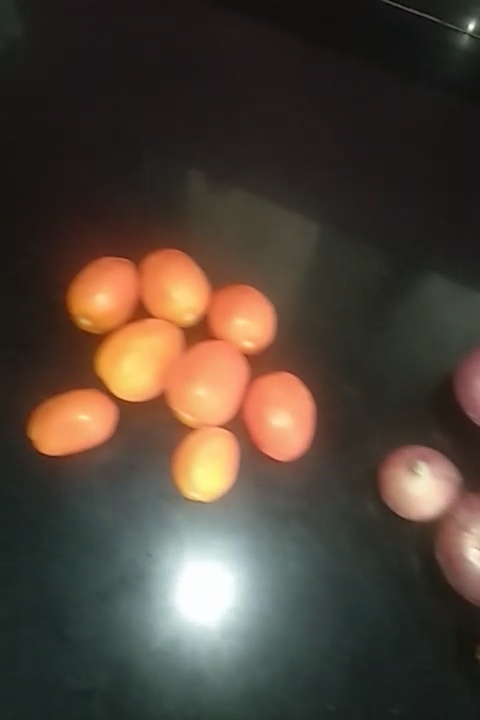onion: (375, 442, 460, 532), (438, 510, 480, 616), (440, 355, 480, 429)
tomato: (165, 342, 249, 429), (127, 242, 210, 325), (19, 389, 127, 450), (103, 311, 180, 395), (63, 254, 142, 333), (155, 425, 240, 493), (208, 272, 278, 353), (256, 373, 313, 462)
